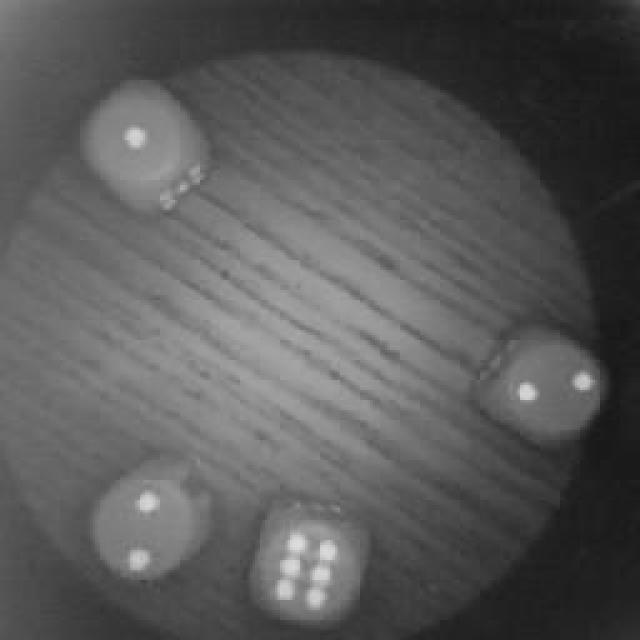dice_1: (78, 72, 208, 212)
dice_2: (80, 455, 218, 595), (475, 325, 607, 455)
dice_6: (247, 505, 375, 633)
